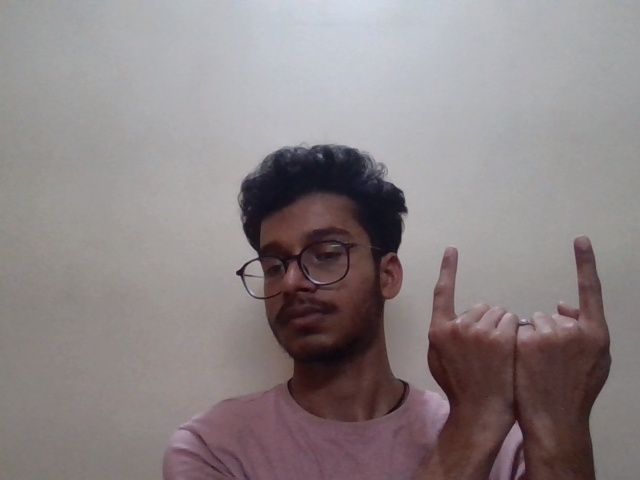when: (423, 236, 622, 438)
